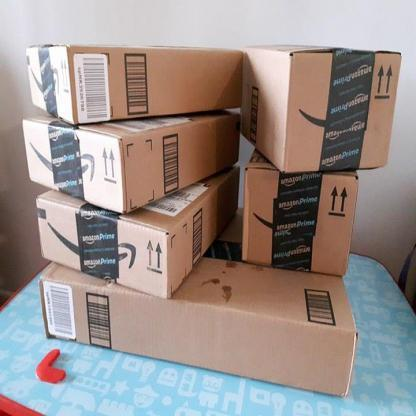package: (38, 268, 360, 400), (34, 163, 240, 303), (20, 116, 249, 211), (236, 42, 404, 171), (25, 41, 247, 125), (236, 170, 361, 277)
